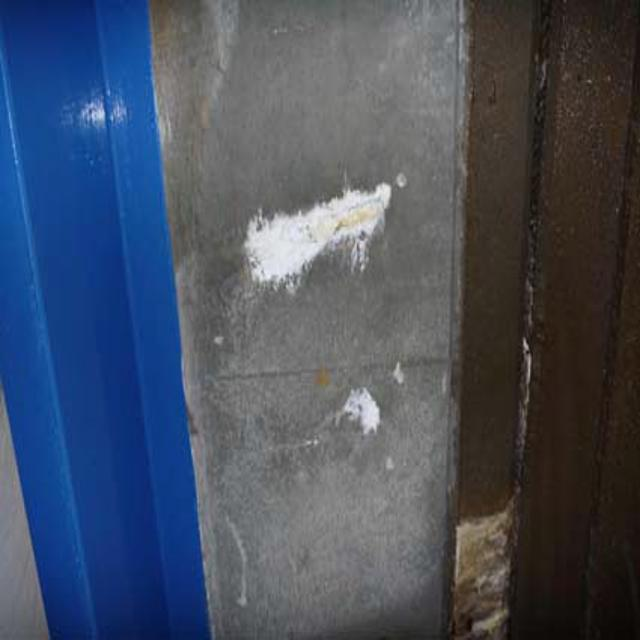freelime: (227, 170, 397, 290)
